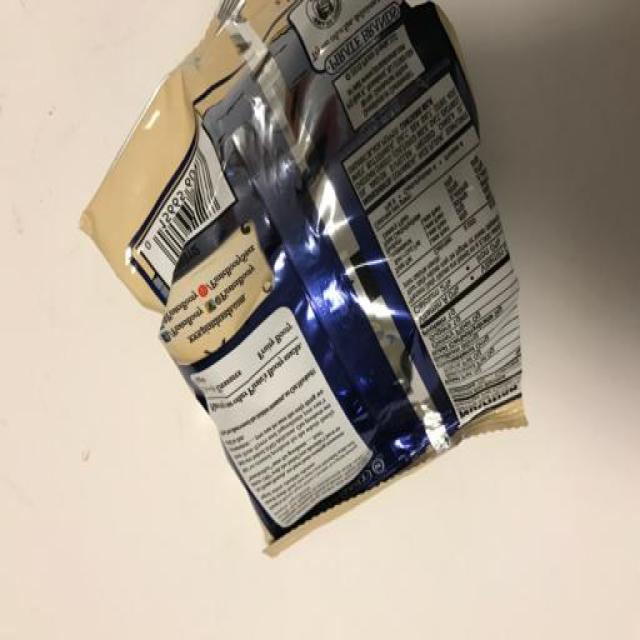Random Trash: (78, 0, 532, 557), (82, 0, 522, 555)
